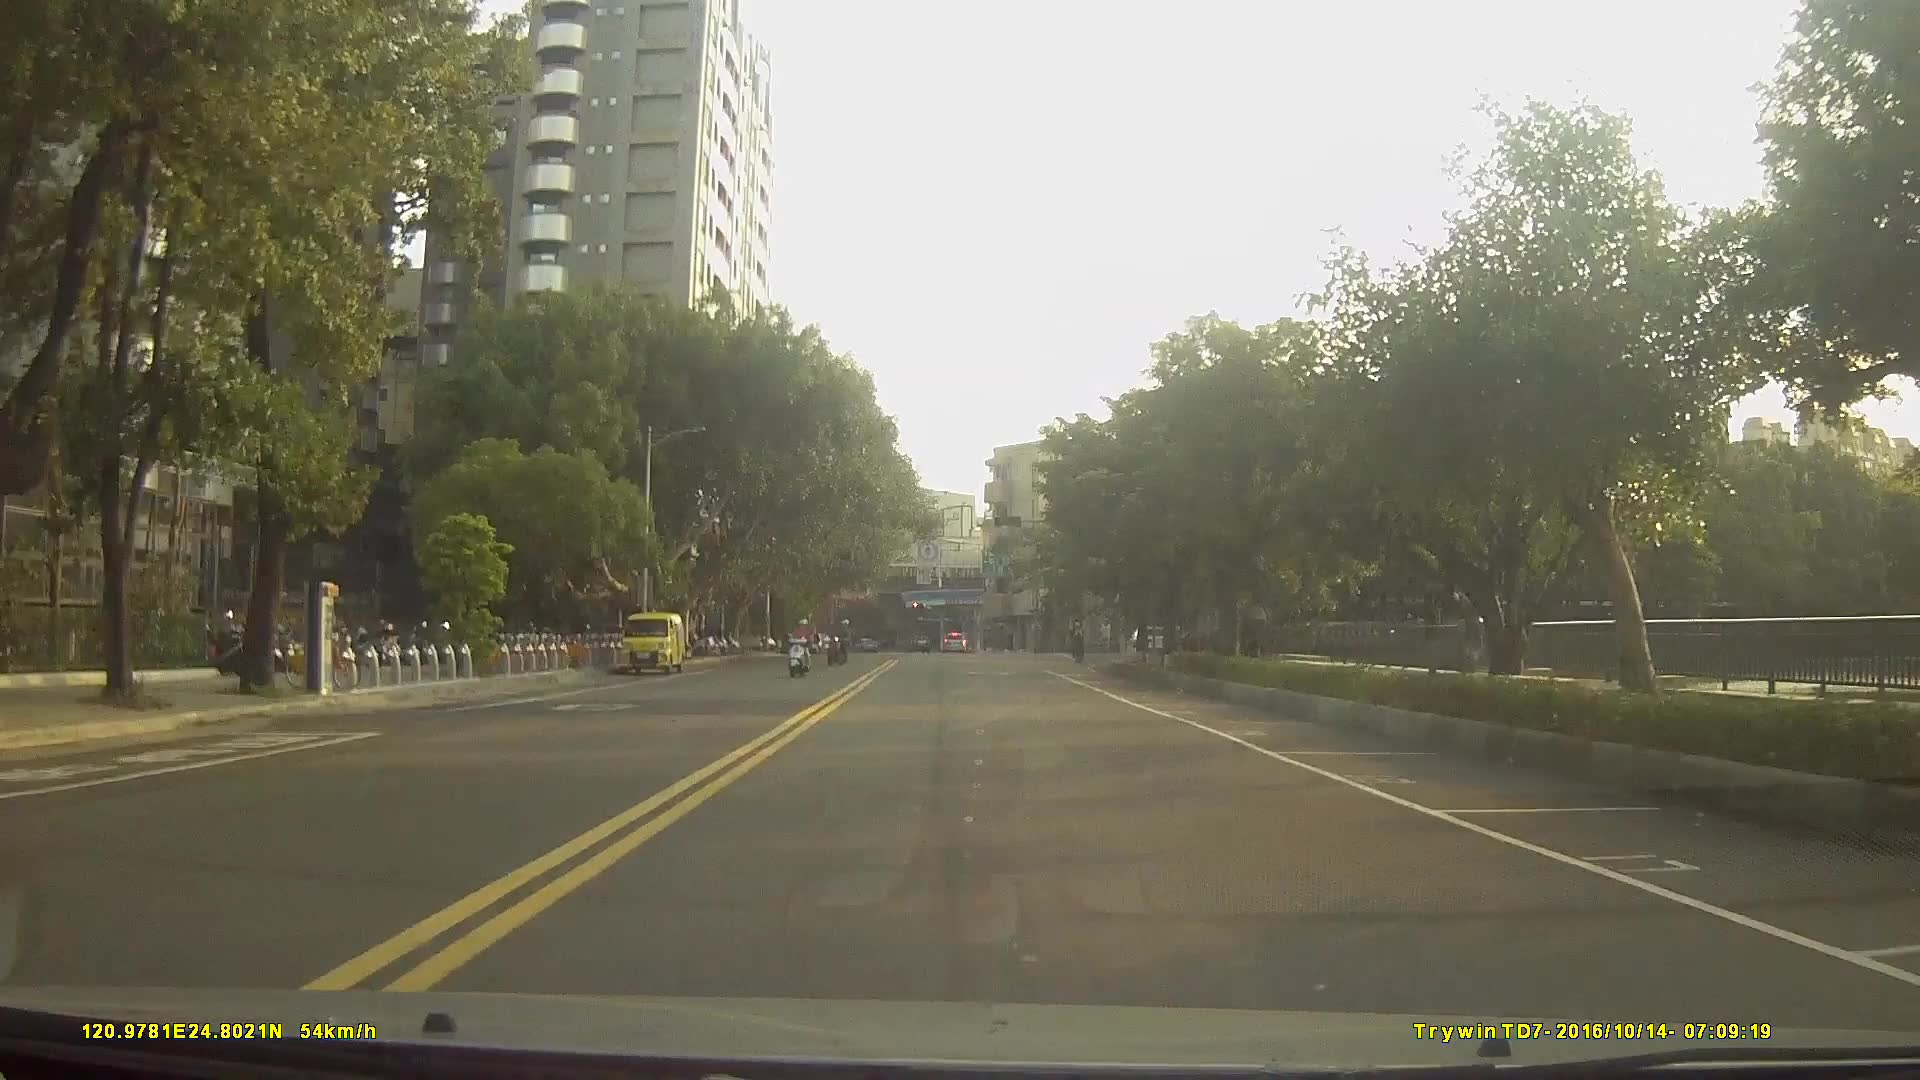pedestrian: (1096, 617, 1116, 656)
rider: (786, 616, 816, 674), (825, 617, 853, 669), (1067, 620, 1088, 667)
vehicle: (936, 631, 967, 656)
